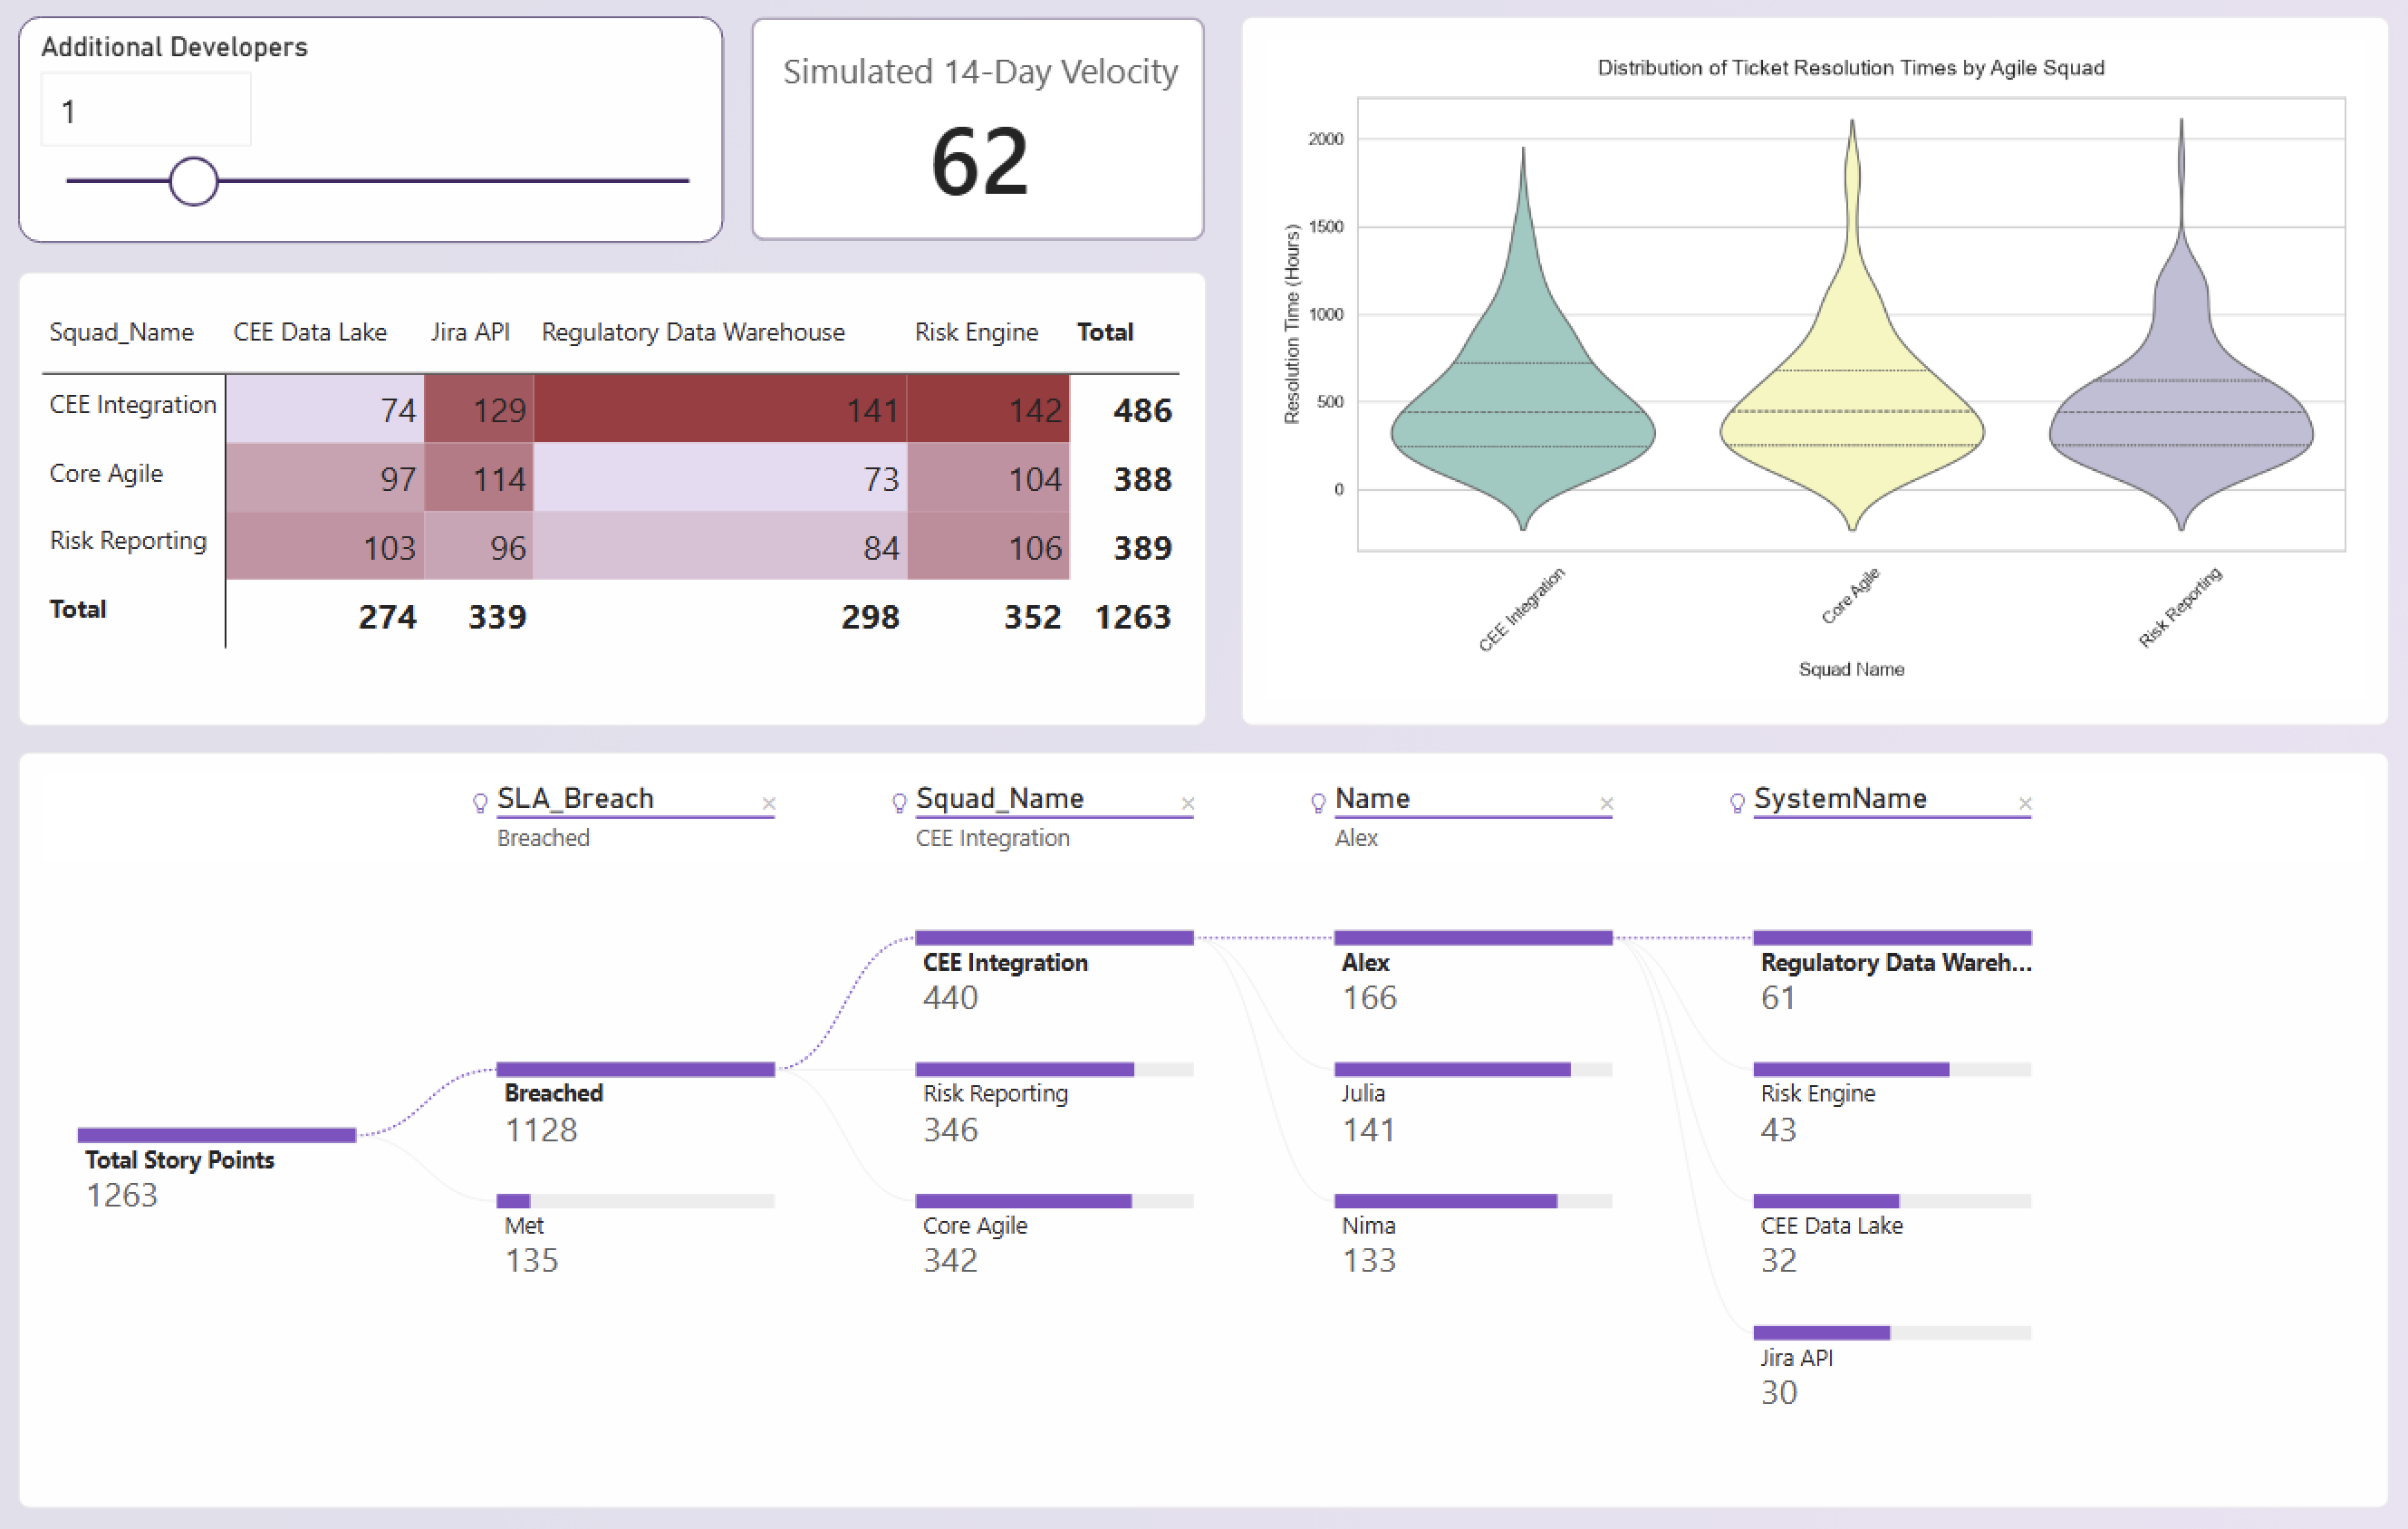

This screenshot's page, from the dashboard's own definition file:
{"tool":"powerbi","page":{"name":"Page 1","canvas":[1920,1080],"ordinal":0},"visuals":[{"type":"pivotTable","fields":{"Columns":["D_System.SystemName"],"Rows":["D_Assignee.Squad_Name"],"Values":["F_ServiceRequests.Total Story Points"]},"box":[24.2,192,834.1,319.2],"z":0},{"type":"decompositionTreeVisual","fields":{"Analyze":["F_ServiceRequests.Total Story Points"],"ExplainBy":["F_ServiceRequests.SLA_Breach","D_Assignee.Squad_Name","D_Assignee.Name","D_System.SystemName"]},"box":[24.2,529,1664.4,531.5],"z":1},{"type":"pythonVisual","fields":{"Values":["D_Assignee.Squad_Name","F_ServiceRequests.TicketID","F_ServiceRequests.ResolutionTimeHours"]},"box":[883,13,806.1,498.3],"z":3},{"type":"slicer","fields":{"Values":["Additional Developers.Additional Developers"]},"box":[24.2,12.7,494.6,158.9],"z":4},{"type":"cardVisual","fields":{"Data":["F_ServiceRequests.Simulated 14-Day Velocity"]},"box":[537.9,12.7,320.4,158.9],"z":5}]}

Visuals, with their boxes on the page's 1920x1080 design canvas (x1, y1, x2, y2). These are canvas units, not pixel positions in the 2408x1529 screenshot, which may show the page scaled, cropped or inside an application window:
pivotTable - D_System.SystemName x D_Assignee.Squad_Name: detection(24, 192, 858, 511)
decompositionTreeVisual - F_ServiceRequests.Total Story Points x F_ServiceRequests.SLA_Breach: detection(24, 529, 1689, 1060)
pythonVisual - D_Assignee.Squad_Name x F_ServiceRequests.TicketID: detection(883, 13, 1689, 511)
slicer - Additional Developers.Additional Developers: detection(24, 13, 519, 172)
cardVisual - F_ServiceRequests.Simulated 14-Day Velocity: detection(538, 13, 858, 172)
